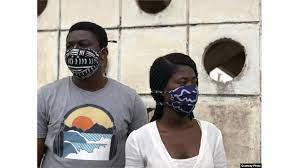OK: (66, 36, 101, 75), (166, 75, 199, 112)
